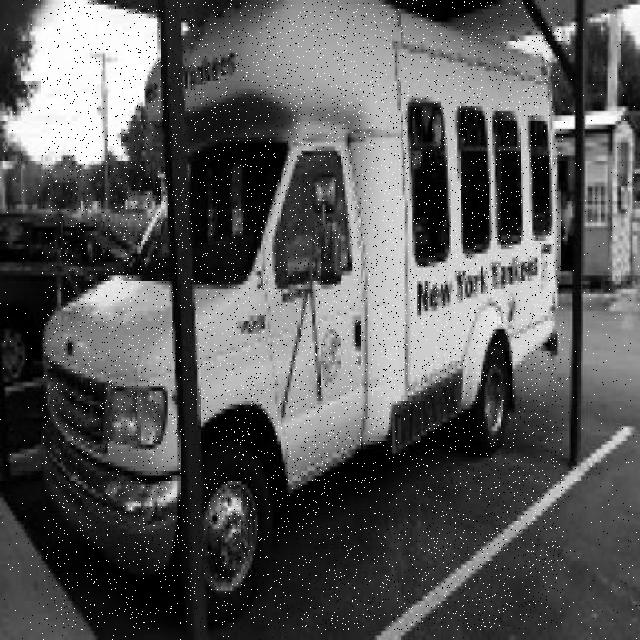Bus- Small: (42, 0, 564, 630)
